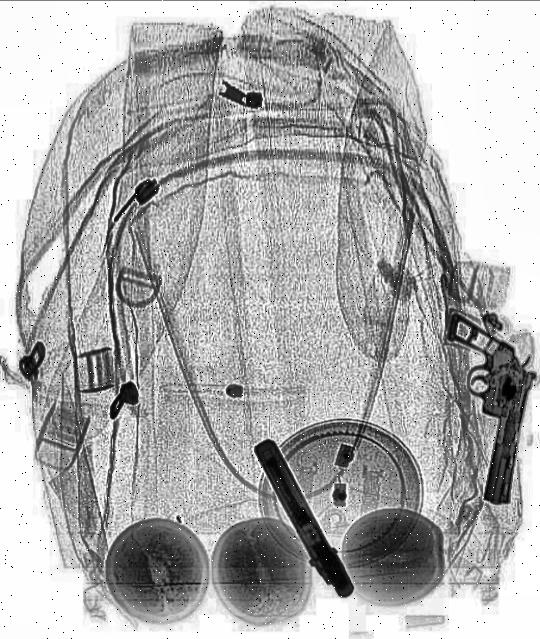Gun: (417, 309, 539, 507), (246, 432, 358, 604)
